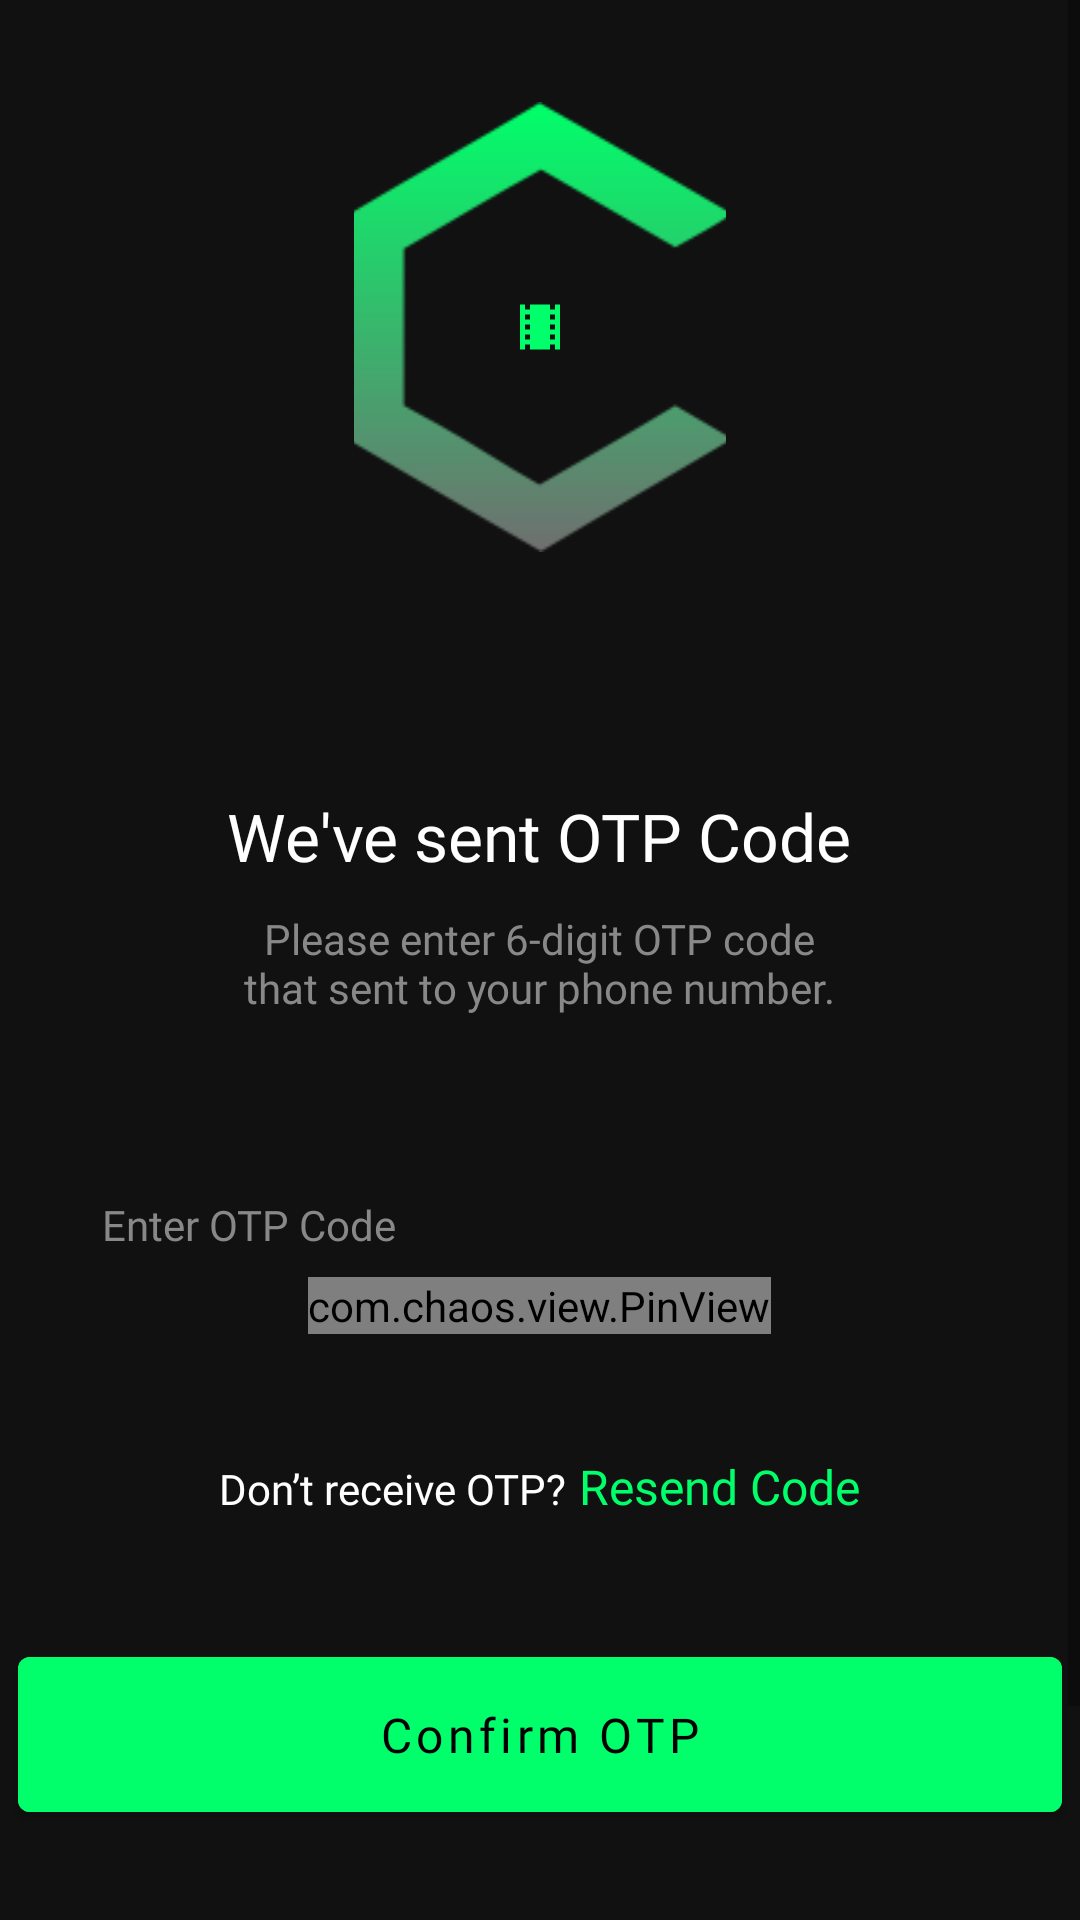

Point at icon controls on the screen. Image size 1080*1920, points as point (x, y).
local movies: point (540, 327)
